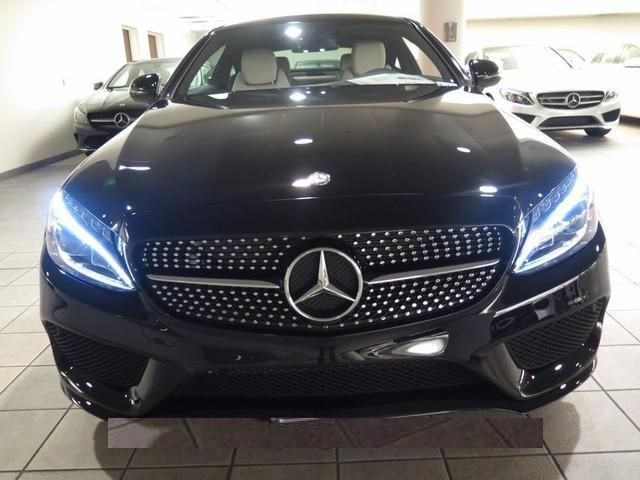C300Coupe: (31, 9, 611, 428)
